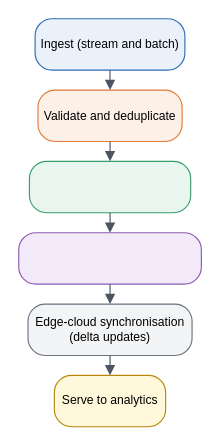
This 220x446 diagram has some shape labels left out. Each missing label, with the centre of its shape:
"Metadata and lineage catalogue" belongs at point (109, 258).
"Transform and feature store" belongs at point (109, 186).
